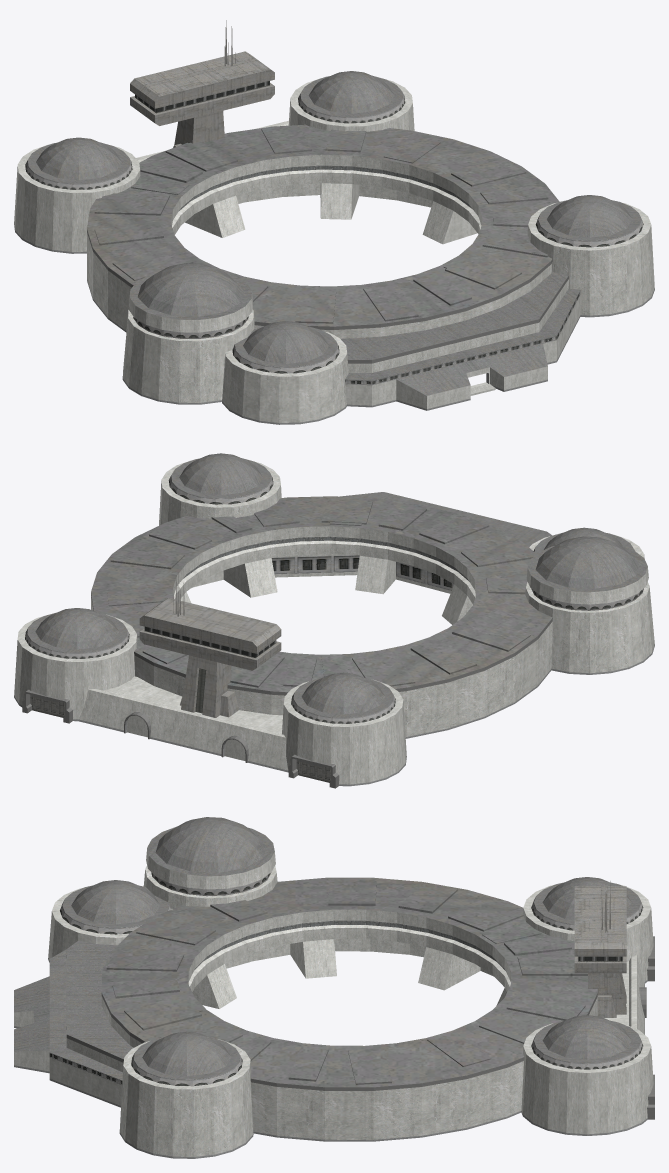
Rendered from mun_corl_starport_s01_u01_r0_mesh_l0.fbx.
The picture shows the model from 3 angles, top to bottom: view 1: azimuth 30°, elevation 25°; view 2: azimuth 150°, elevation 25°; view 3: azimuth 270°, elevation 25°; orthographic projection. The views are drawn at different scales.
Visible parts, largest first — view 1: mesh_node; view 2: mesh_node; view 3: mesh_node.
Part boxes in pixels (x1,y1,x2,y2): mesh_node: (14,20,654,424); mesh_node: (14,453,654,788); mesh_node: (14,817,654,1158).
Size of the model in its own units: 151 by 47.84 by 160.
